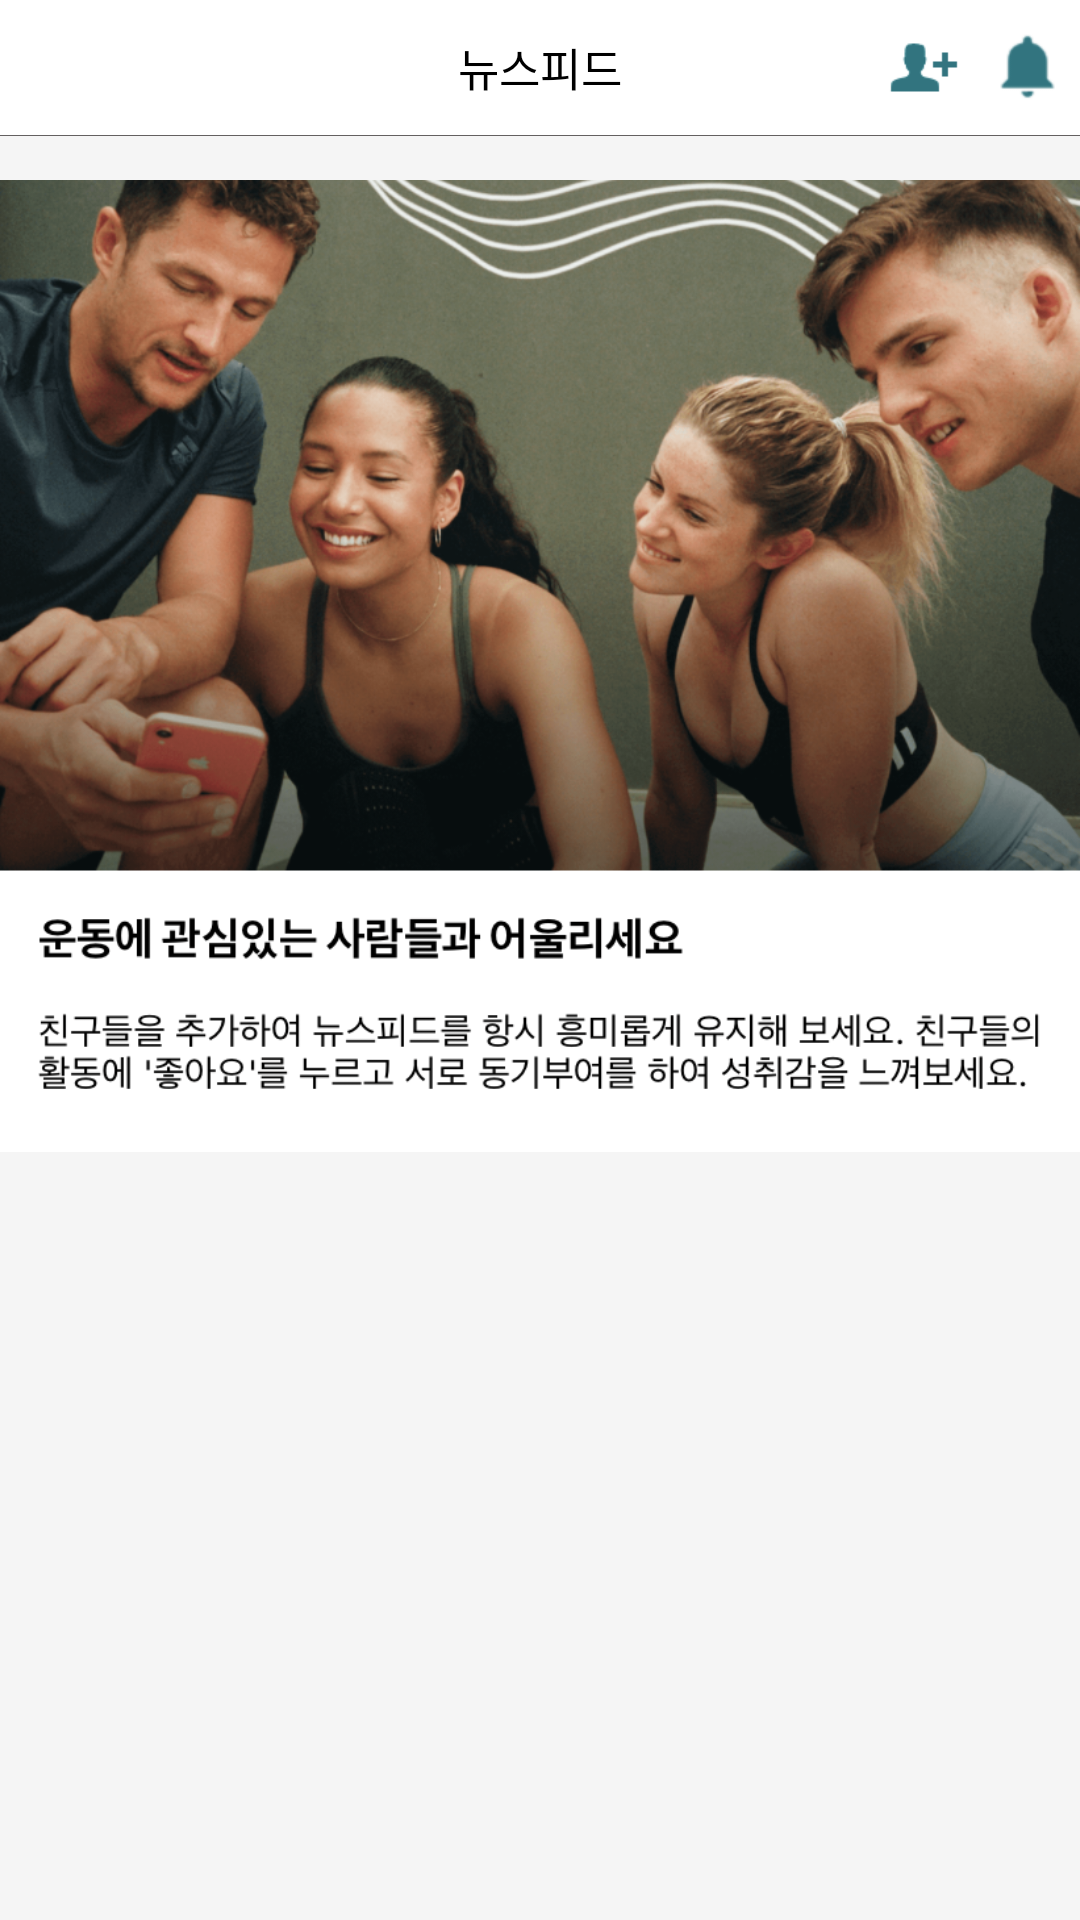

Icons on this 1080*1920 Android screen, each with the point to tap as (x,y):
add friend: (924,67)
news peed alarm: (1027,66)
